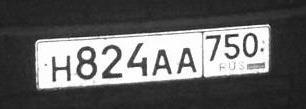license-plateSW: (33, 29, 275, 84)
